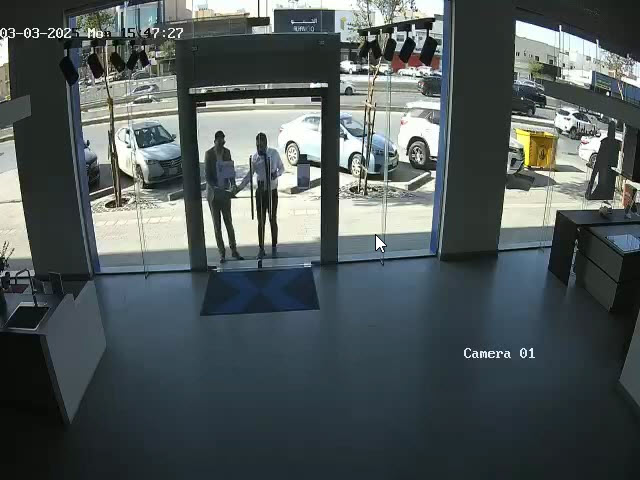employee: (233, 133, 285, 259)
male: (204, 130, 245, 263)
